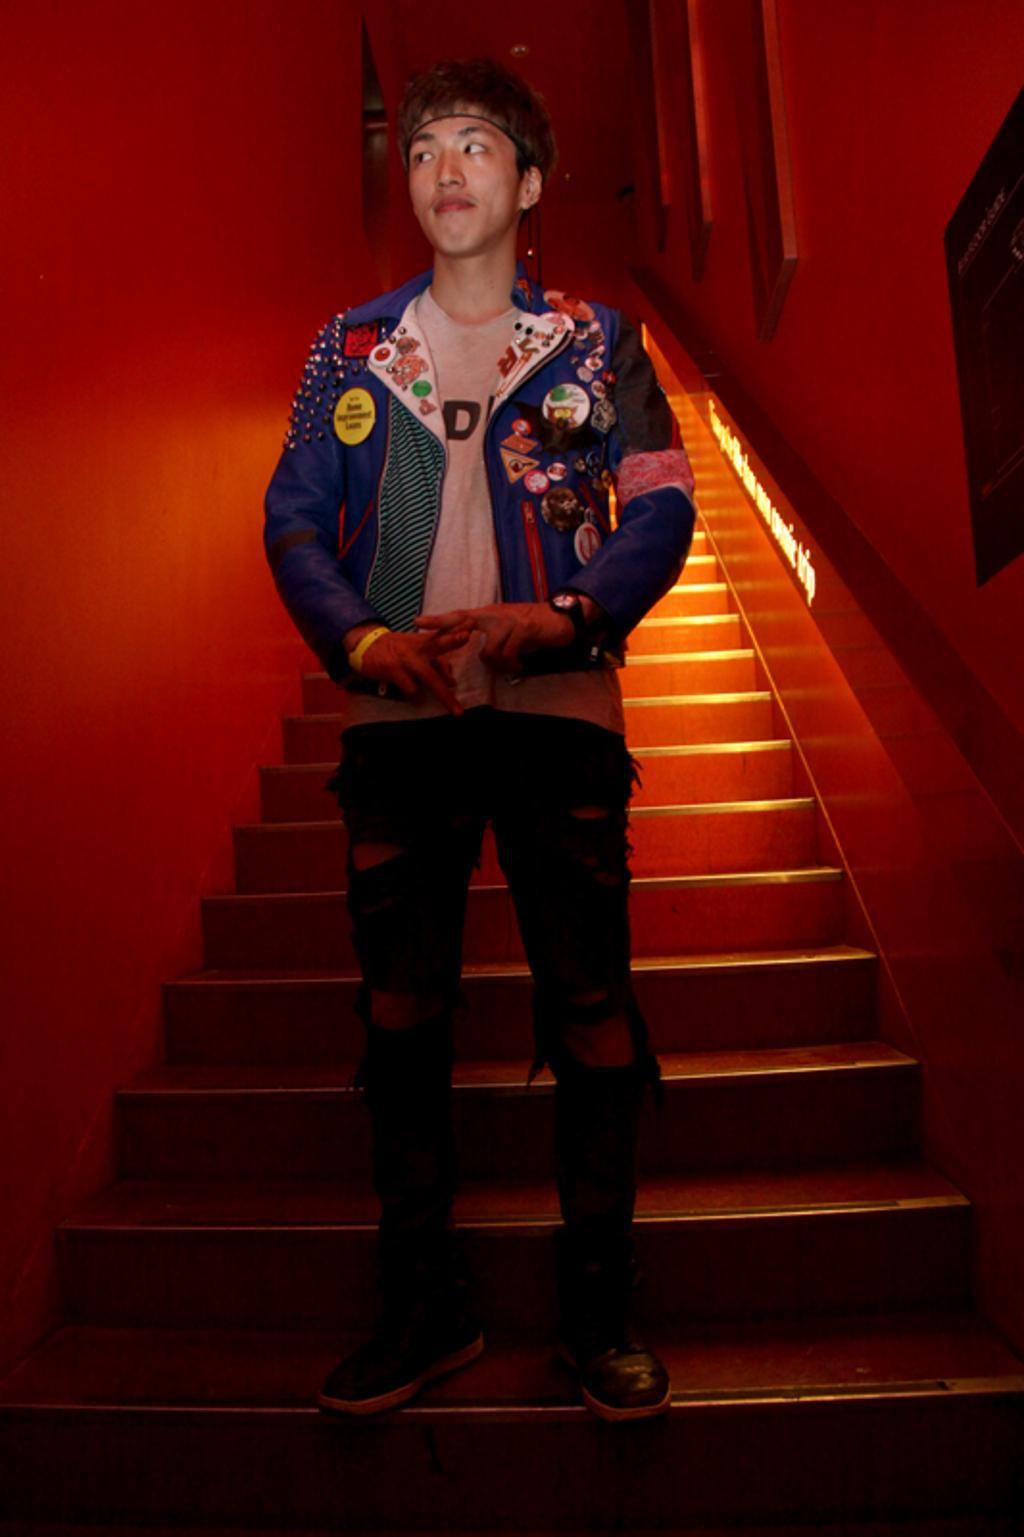face: (412, 100, 514, 253)
